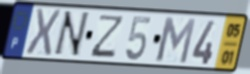4: (190, 17, 216, 67)
5: (124, 15, 153, 62)
M: (154, 15, 198, 66)
N: (50, 10, 91, 59)
X: (24, 7, 63, 58)
Z: (88, 13, 127, 59)
